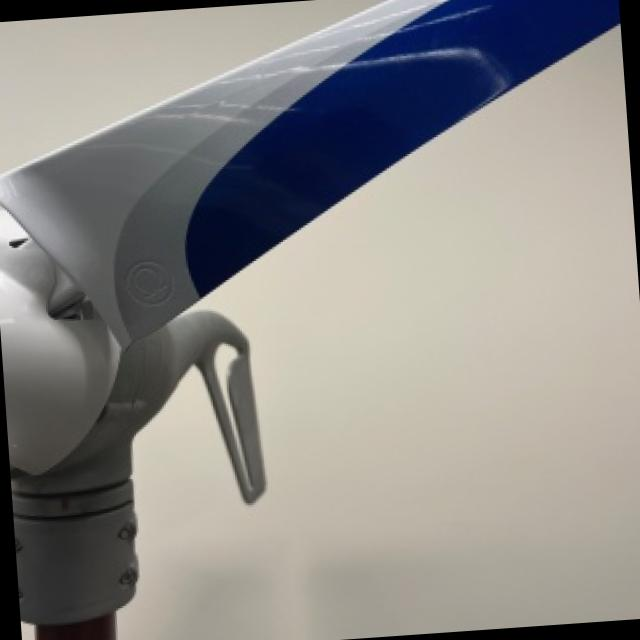healthy: (121, 27, 640, 640)
